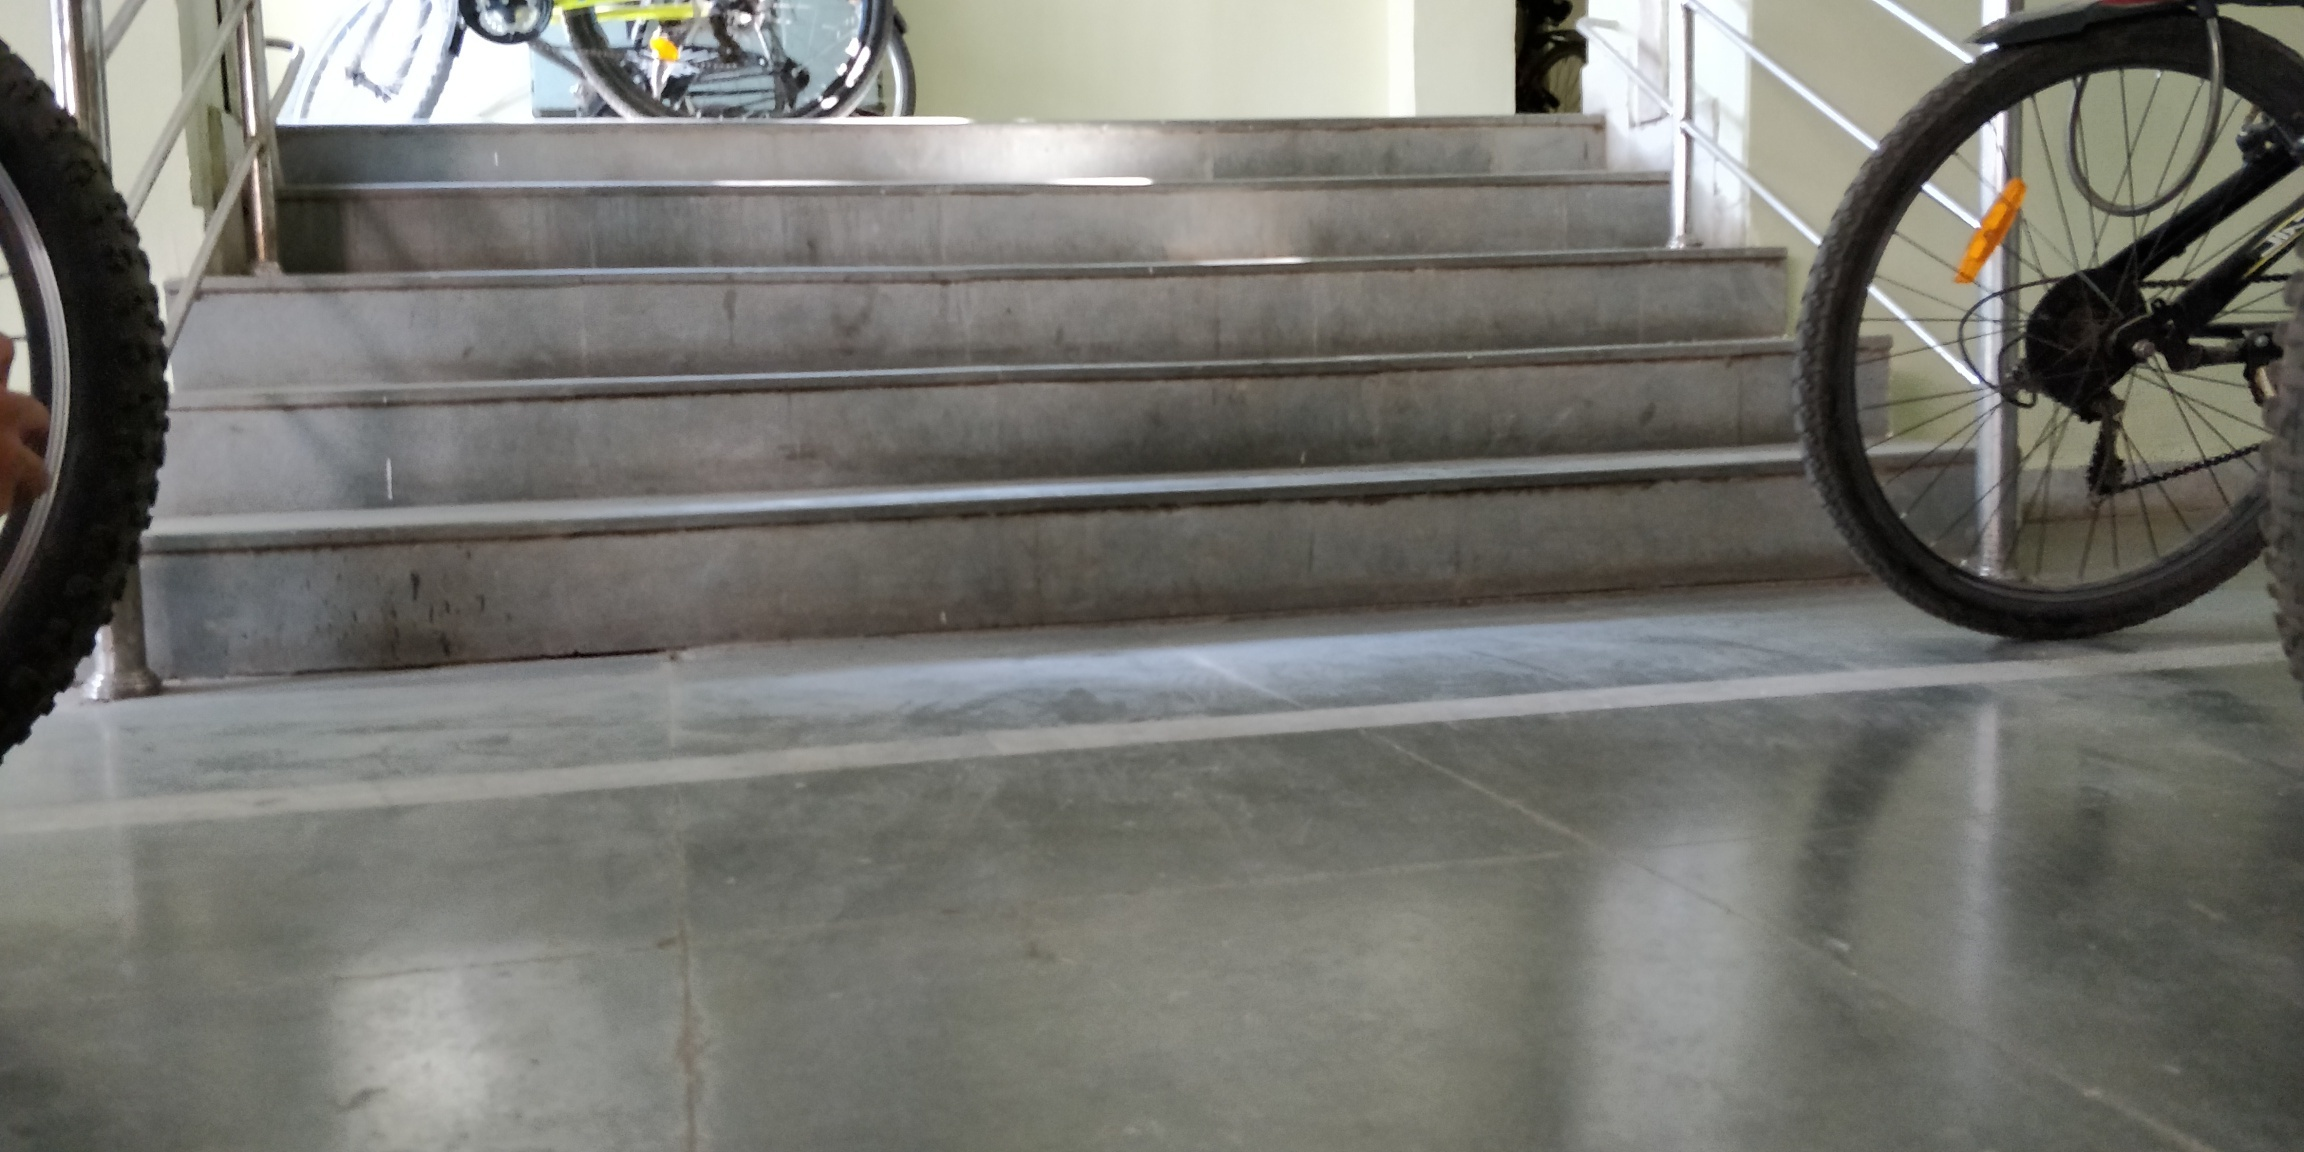stairs_up: (213, 116, 1862, 626)
